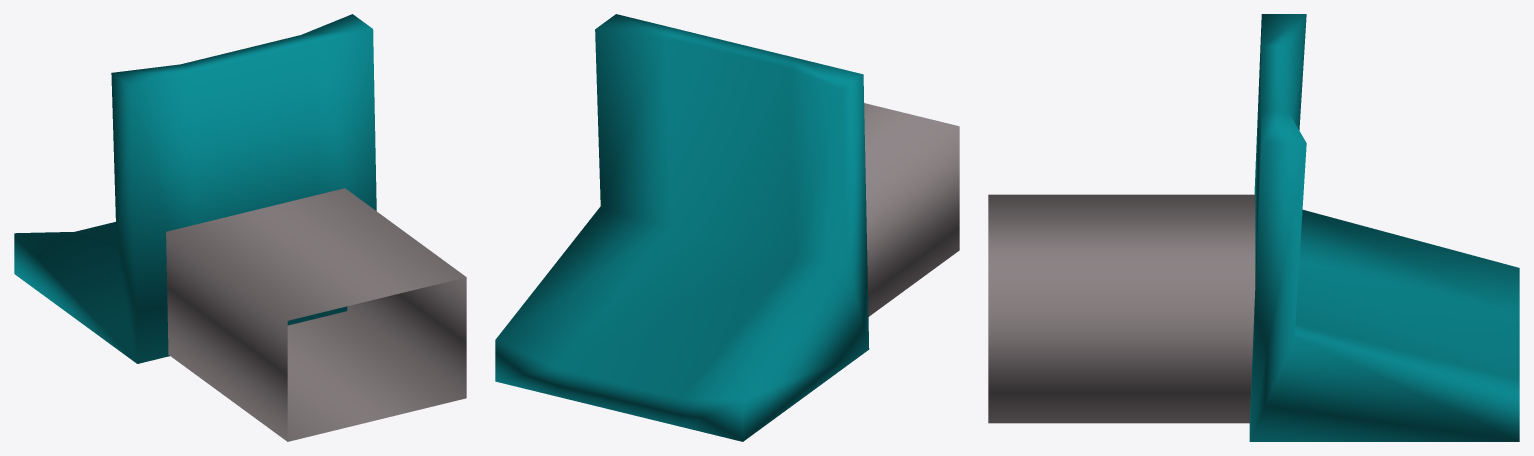
The model's file is Bench_01.fbx.
The picture shows the model from 3 angles, left to right: view 1: azimuth 30°, elevation 25°; view 2: azimuth 150°, elevation 25°; view 3: azimuth 270°, elevation 25°; orthographic projection. The views are drawn at different scales.
Visible parts, largest first — view 1: SubwayBench_01_low; view 2: SubwayBench_01_low; view 3: SubwayBench_01_low.
Part boxes in pixels (x1=…): SubwayBench_01_low: x1=14, y1=14, x2=466, y2=441; SubwayBench_01_low: x1=495, y1=14, x2=959, y2=441; SubwayBench_01_low: x1=988, y1=14, x2=1519, y2=441.
Size of the model in its own units: 0.51 by 0.55 by 0.8869.
